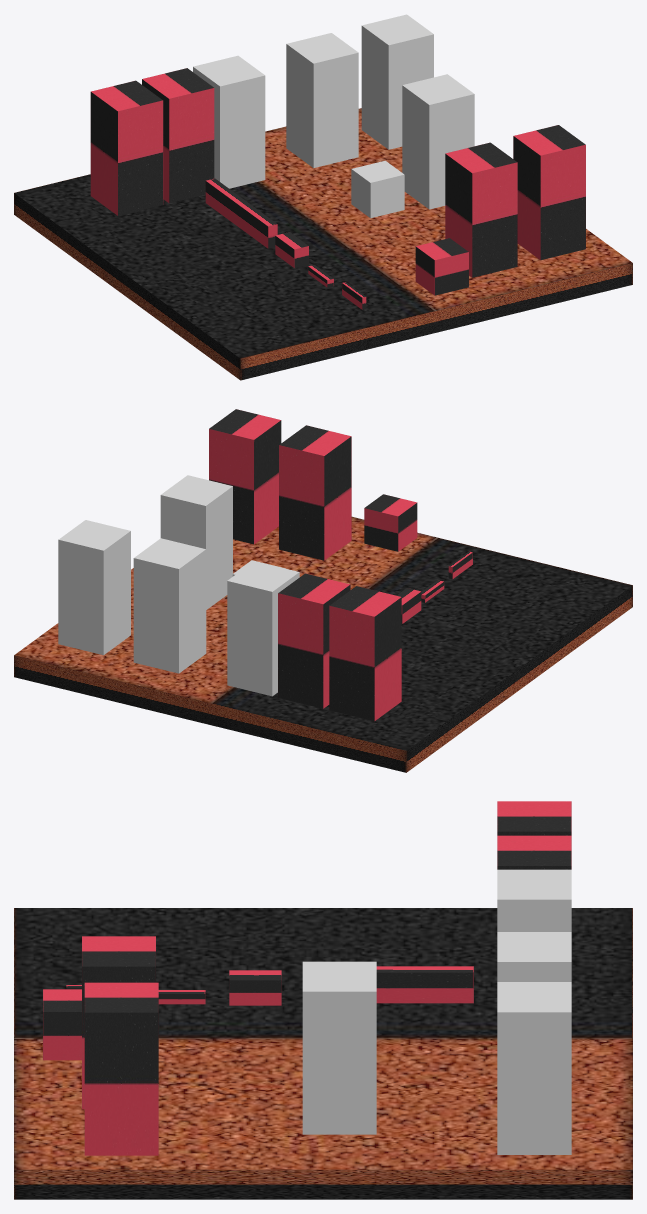
File: KariMap.fbx
The picture shows the model from 3 angles, top to bottom: view 1: azimuth 30°, elevation 25°; view 2: azimuth 150°, elevation 25°; view 3: azimuth 270°, elevation 25°; orthographic projection. The views are drawn at different scales.
Visible parts, largest first — view 1: Cube, Cube.005, Cube.006, Cube.013, Cube.011, Cube.012, Cube.014, Cube.001, Cube.004, Cube.007, Cube.010, Cube.015 (+1 smaller); view 2: Cube, Cube.006, Cube.011, Cube.014, Cube.005, Cube.013, Cube.004, Cube.001, Cube.012, Cube.010, Cube.016; view 3: Cube, Cube.012, Cube.013, Cube.014, Cube.001, Cube.011, Cube.006, Cube.015, Cube.010, Cube.004, Cube.005, Cube.016 (+1 smaller).
Boxes of the visible parts, bbox=[...] form: Cube: bbox=[14, 108, 632, 380]; Cube.005: bbox=[90, 80, 163, 215]; Cube.006: bbox=[286, 33, 358, 168]; Cube.013: bbox=[513, 125, 585, 260]; Cube.011: bbox=[445, 142, 517, 277]; Cube.012: bbox=[402, 74, 474, 209]; Cube.014: bbox=[361, 14, 433, 149]; Cube.001: bbox=[193, 55, 265, 188]; Cube.004: bbox=[142, 68, 214, 203]; Cube.007: bbox=[351, 160, 404, 218]; Cube.010: bbox=[415, 238, 468, 295]; Cube.015: bbox=[205, 178, 277, 248]; Cube: bbox=[14, 516, 632, 772]; Cube.006: bbox=[133, 538, 206, 673]; Cube.011: bbox=[279, 425, 351, 560]; Cube.014: bbox=[58, 520, 130, 655]; Cube.005: bbox=[329, 586, 401, 721]; Cube.013: bbox=[209, 409, 281, 544]; Cube.004: bbox=[278, 573, 350, 708]; Cube.001: bbox=[227, 561, 299, 696]; Cube.012: bbox=[160, 475, 232, 609]; Cube.010: bbox=[364, 494, 417, 551]; Cube.016: bbox=[397, 588, 421, 623]; Cube: bbox=[14, 908, 632, 1199]; Cube.012: bbox=[302, 961, 376, 1134]; Cube.013: bbox=[84, 982, 158, 1155]; Cube.014: bbox=[497, 982, 571, 1154]; Cube.001: bbox=[497, 869, 571, 931]; Cube.011: bbox=[82, 936, 155, 1109]; Cube.006: bbox=[497, 932, 571, 981]; Cube.015: bbox=[376, 966, 473, 1003]; Cube.010: bbox=[43, 989, 81, 1060]; Cube.004: bbox=[497, 835, 571, 869]; Cube.005: bbox=[497, 801, 571, 835]; Cube.016: bbox=[229, 970, 281, 1005].
Size of the model in its own units: 2231 by 687 by 2231.
Materials: 2 (2 with a texture image).
